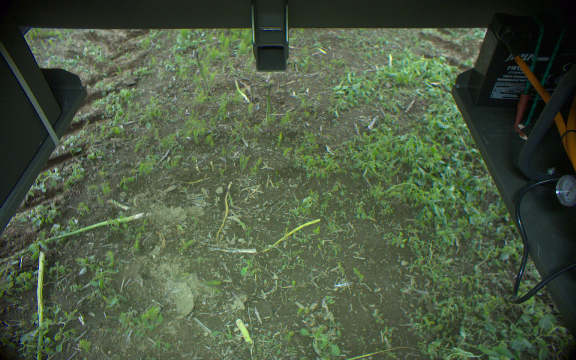aspa: (5, 210, 145, 266), (34, 251, 52, 360), (193, 50, 214, 100), (233, 75, 251, 105), (235, 318, 252, 347), (263, 83, 274, 126)
